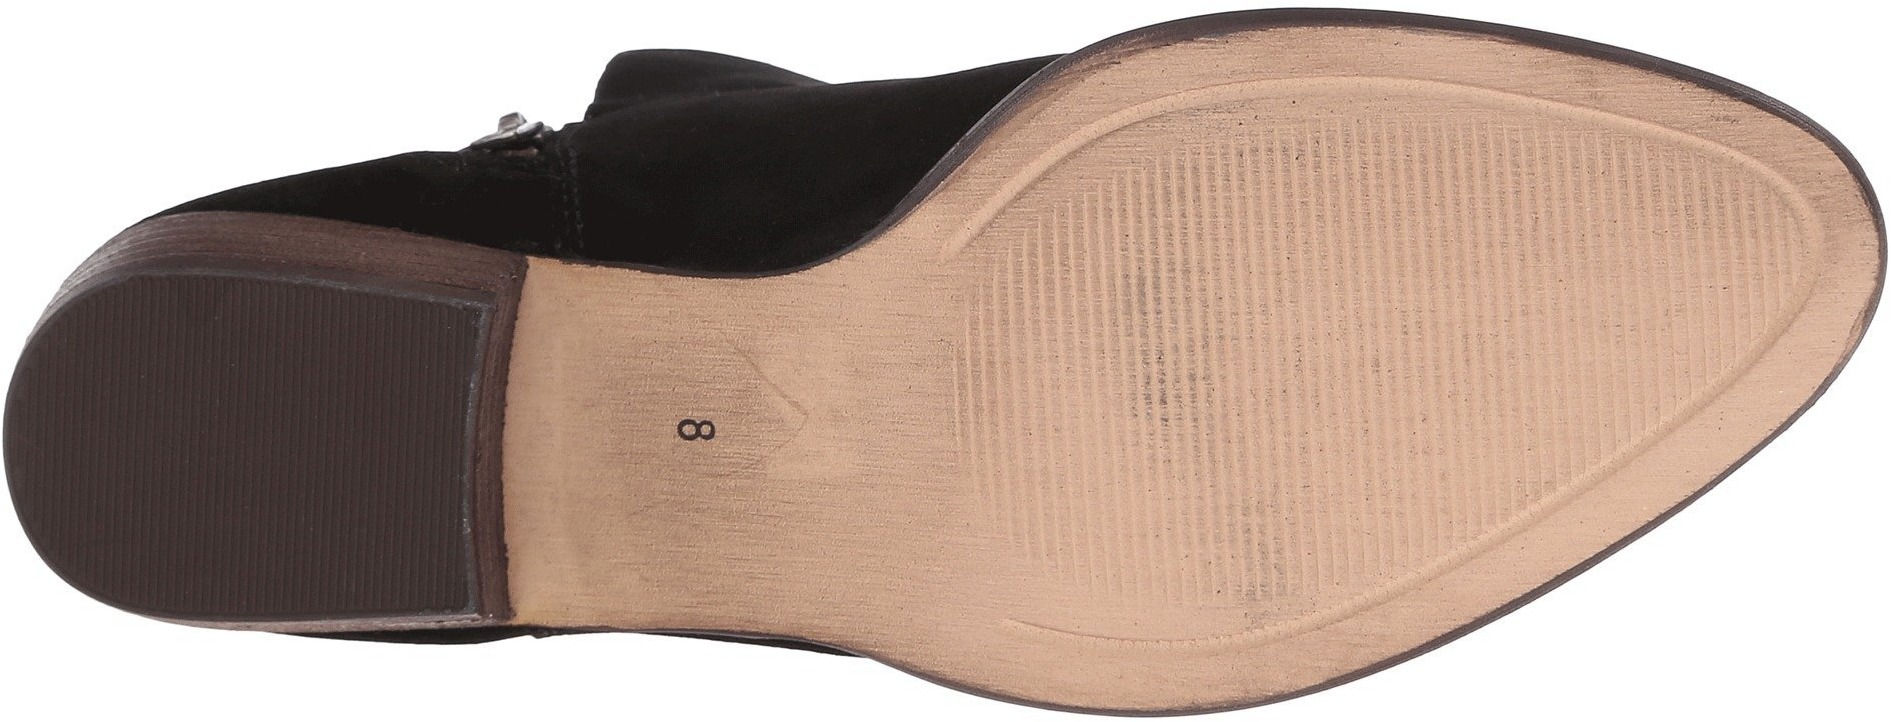other: (1212, 143, 1487, 400), (974, 268, 1205, 522), (1489, 160, 1705, 380), (1208, 406, 1395, 593), (168, 290, 338, 450), (170, 454, 339, 610), (16, 369, 166, 524), (340, 352, 464, 491), (1403, 406, 1533, 530), (1093, 157, 1208, 264), (1706, 202, 1814, 305)
